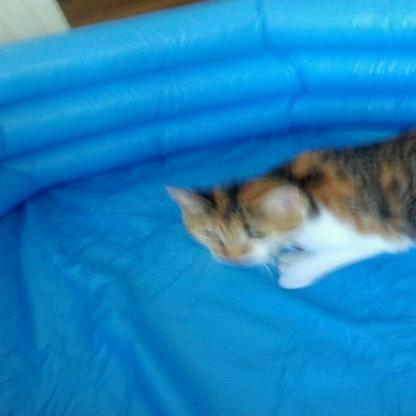Target: (177, 126, 416, 291)
